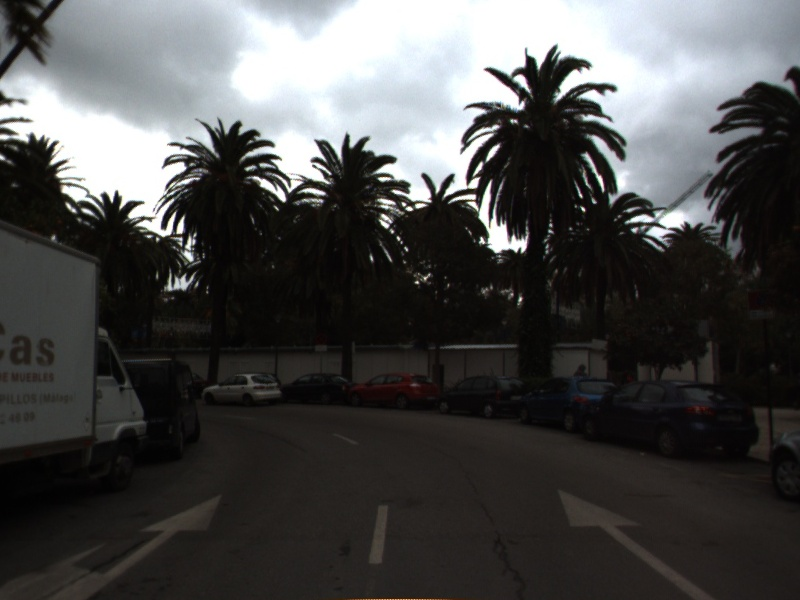STRAIGHT: (556, 487, 718, 600)
STRAIGHT_LEFT: (1, 491, 226, 600)
